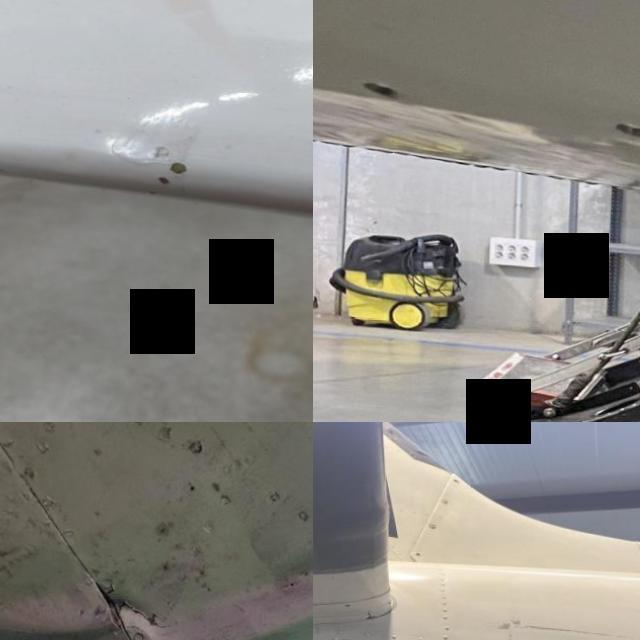Crack: (138, 154, 313, 209), (110, 590, 176, 633)
Dent: (0, 437, 313, 640)
Missing_Fastener: (351, 74, 404, 104), (612, 113, 640, 144), (414, 550, 422, 554), (452, 476, 458, 480), (344, 602, 349, 604)
